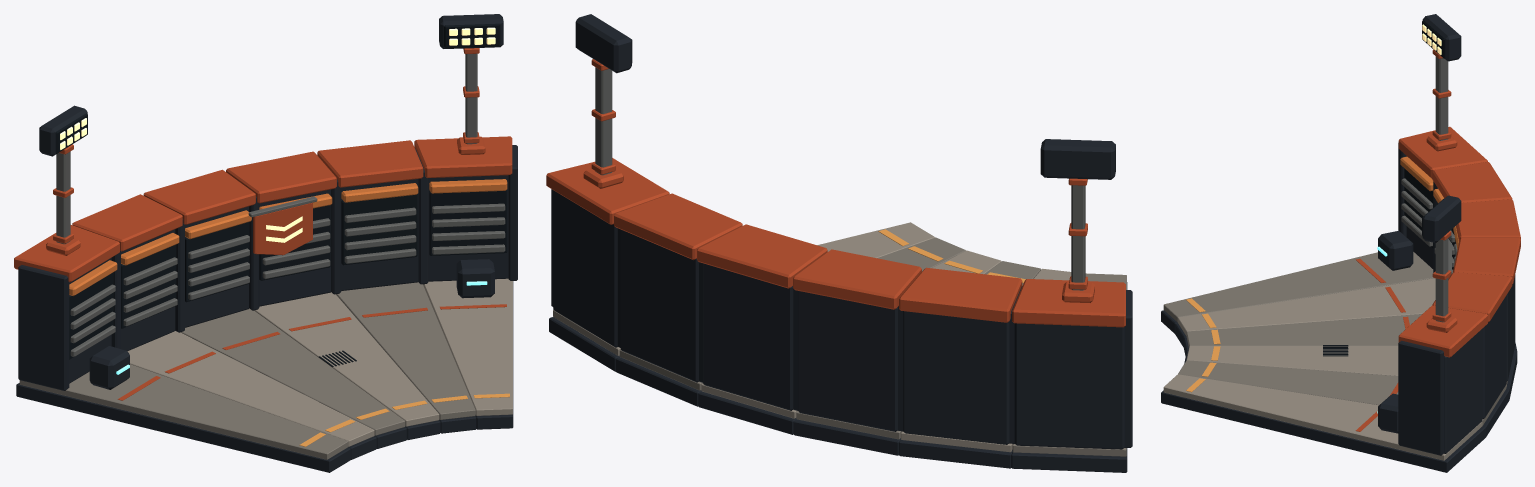
The model's file is wsc-arch-010-titan-arena-kit.glb.
3 views of the same model, side by side, from view 1: azimuth 30°, elevation 25°; view 2: azimuth 150°, elevation 25°; view 3: azimuth 270°, elevation 25° (orthographic). The views are drawn at different scales.
Visible parts, largest first — view 1: charcoal, deck, orange, deck-light, steel, cinder, ochre, ivory, amber; view 2: charcoal, orange, deck-light, deck, steel, amber; view 3: charcoal, deck-light, deck, orange, steel, cinder, amber, ochre.
Boxes of the visible parts, x1,y1,x2,y2 form: charcoal: [16, 14, 517, 472]; deck: [19, 282, 475, 459]; orange: [14, 48, 512, 400]; deck-light: [127, 278, 512, 446]; steel: [56, 53, 505, 356]; cinder: [55, 23, 507, 366]; ochre: [69, 179, 507, 295]; ivory: [60, 27, 495, 242]; amber: [299, 393, 509, 446]; charcoal: [549, 14, 1132, 472]; orange: [546, 59, 1125, 327]; deck-light: [553, 222, 1071, 452]; deck: [619, 237, 1126, 456]; steel: [595, 67, 1085, 290]; amber: [878, 229, 1025, 283]; charcoal: [1161, 14, 1517, 472]; deck-light: [1163, 278, 1507, 460]; deck: [1163, 252, 1505, 425]; orange: [1355, 49, 1520, 431]; steel: [1401, 56, 1457, 322]; cinder: [1323, 20, 1454, 356]; amber: [1186, 298, 1220, 392]; ochre: [1400, 156, 1458, 249].
Bounding box in the file's own units: 7.48 × 3.88 × 5.12.
